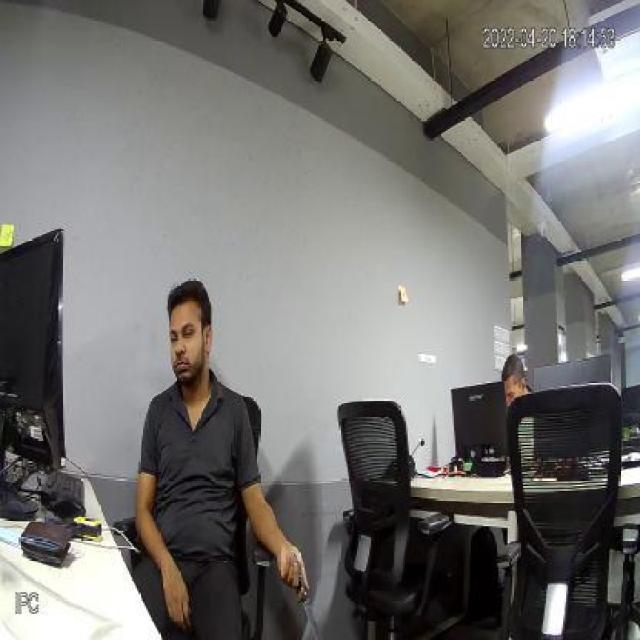knife: (290, 577, 324, 638)
